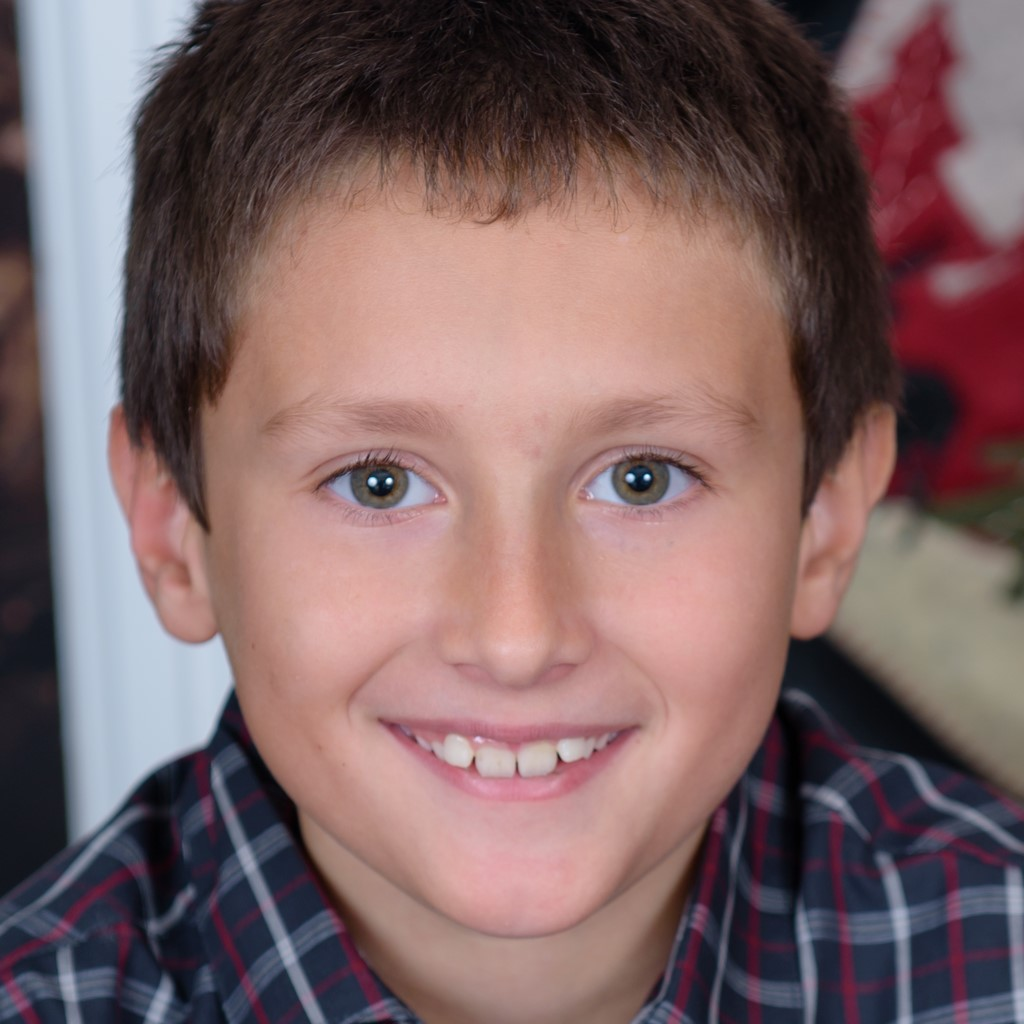sin_mascara: (204, 134, 848, 955)
